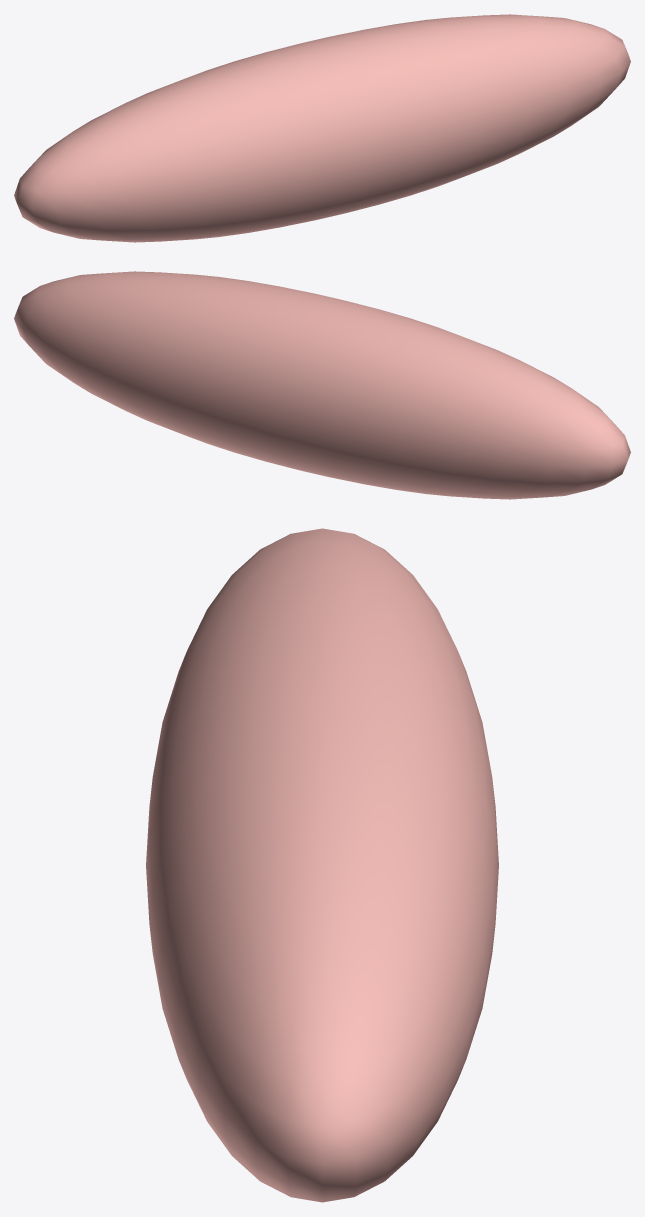
File: sausage_raw.glb
3 renders of one model, top to bottom at view 1: azimuth 30°, elevation 25°; view 2: azimuth 150°, elevation 25°; view 3: azimuth 270°, elevation 25°, orthographic. The views are drawn at different scales.
Parts seen in each view (by area): view 1: Sausage_Raw; view 2: Sausage_Raw; view 3: Sausage_Raw.
Boxes of the visible parts, x1,y1,x2,y2 form: Sausage_Raw: (14,14,630,242); Sausage_Raw: (14,271,630,499); Sausage_Raw: (146,528,498,1202).
Size of the model in its own units: 3.5 by 0.874 by 0.874.
